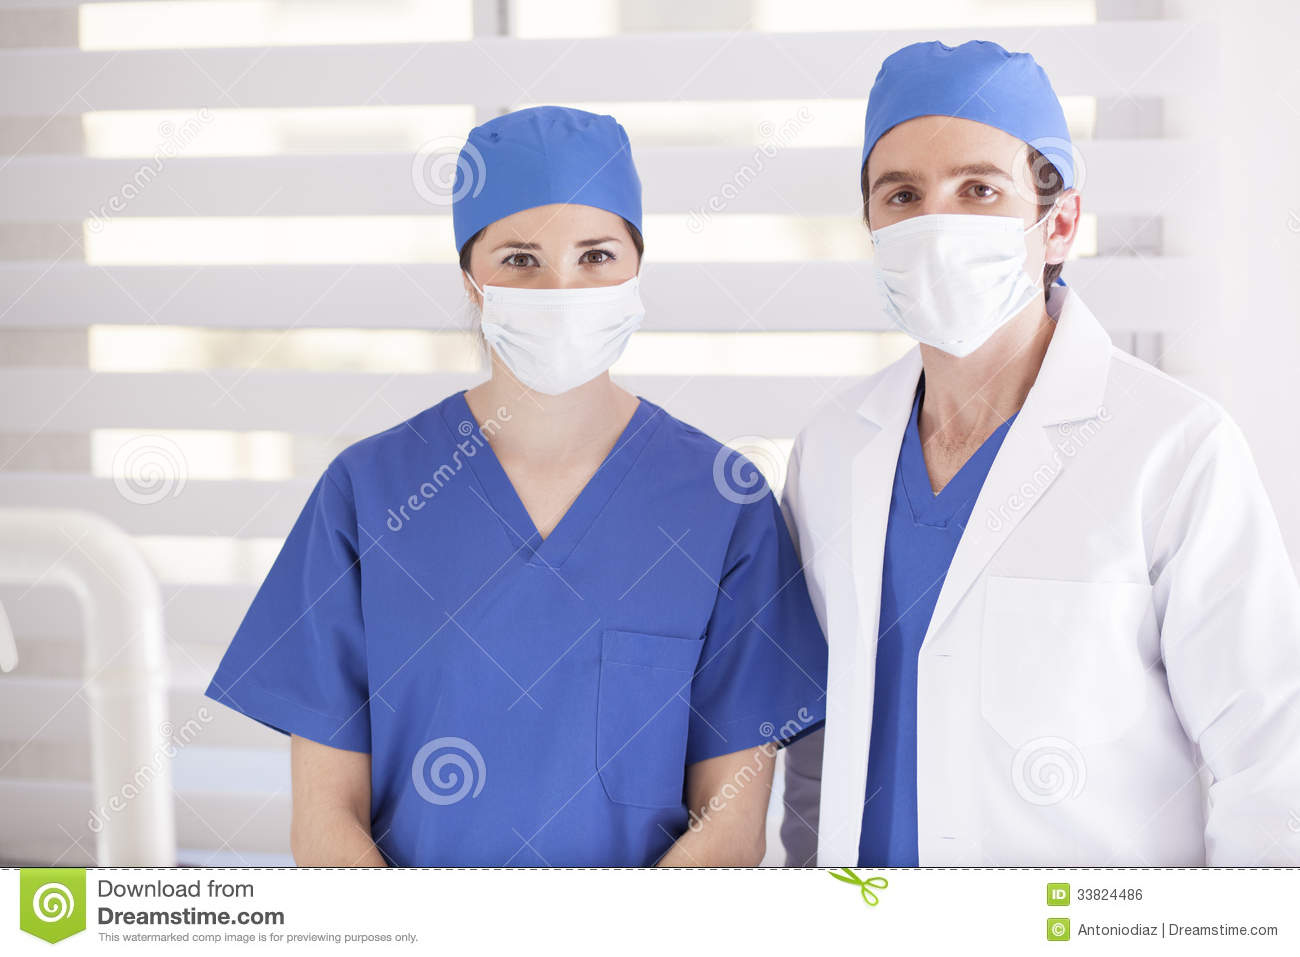mask: (870, 208, 1042, 342), (464, 274, 657, 380)
